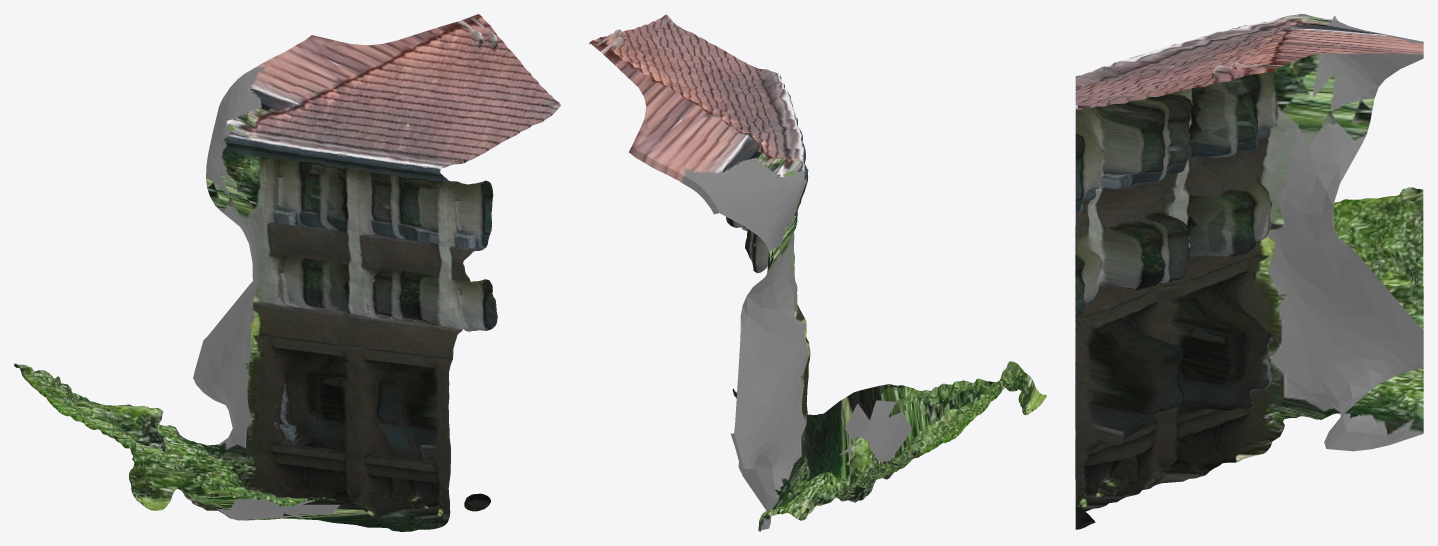
3 views of the same model, side by side, from view 1: azimuth 30°, elevation 25°; view 2: azimuth 150°, elevation 25°; view 3: azimuth 270°, elevation 25° (orthographic). The views are drawn at different scales.
Parts seen in each view (by area): view 1: node_64; view 2: node_64; view 3: node_64.
Boxes of the visible parts, x1,y1,x2,y2 form: node_64: (14,14,560,531); node_64: (589,14,1046,531); node_64: (1075,14,1423,529).
Bounding box in the file's own units: 17.97 × 18.29 × 11.
Materials: 1 (1 with a texture image).
